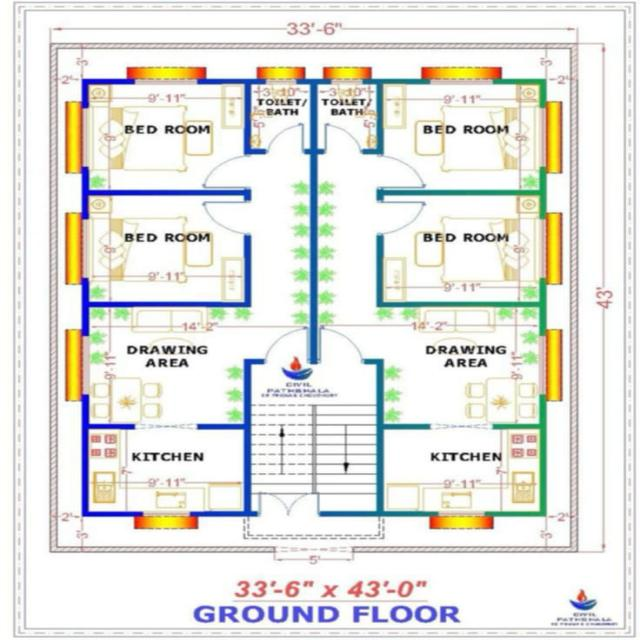column: (367, 352, 394, 372), (369, 294, 396, 312), (529, 504, 554, 522), (238, 352, 260, 372), (533, 72, 556, 90), (532, 296, 555, 313), (237, 294, 260, 311), (531, 182, 552, 200), (370, 503, 393, 519), (75, 297, 97, 313), (75, 75, 95, 91), (238, 502, 258, 518), (75, 506, 97, 520), (238, 73, 256, 90), (371, 75, 391, 89), (74, 420, 94, 433), (77, 185, 95, 199)
